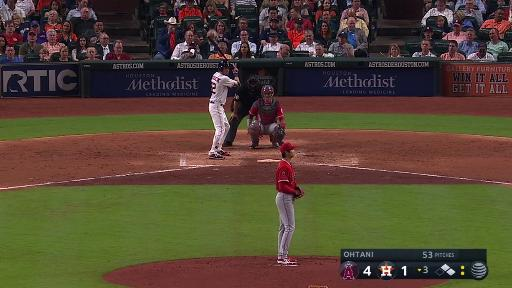pitcher: (274, 142, 305, 263)
